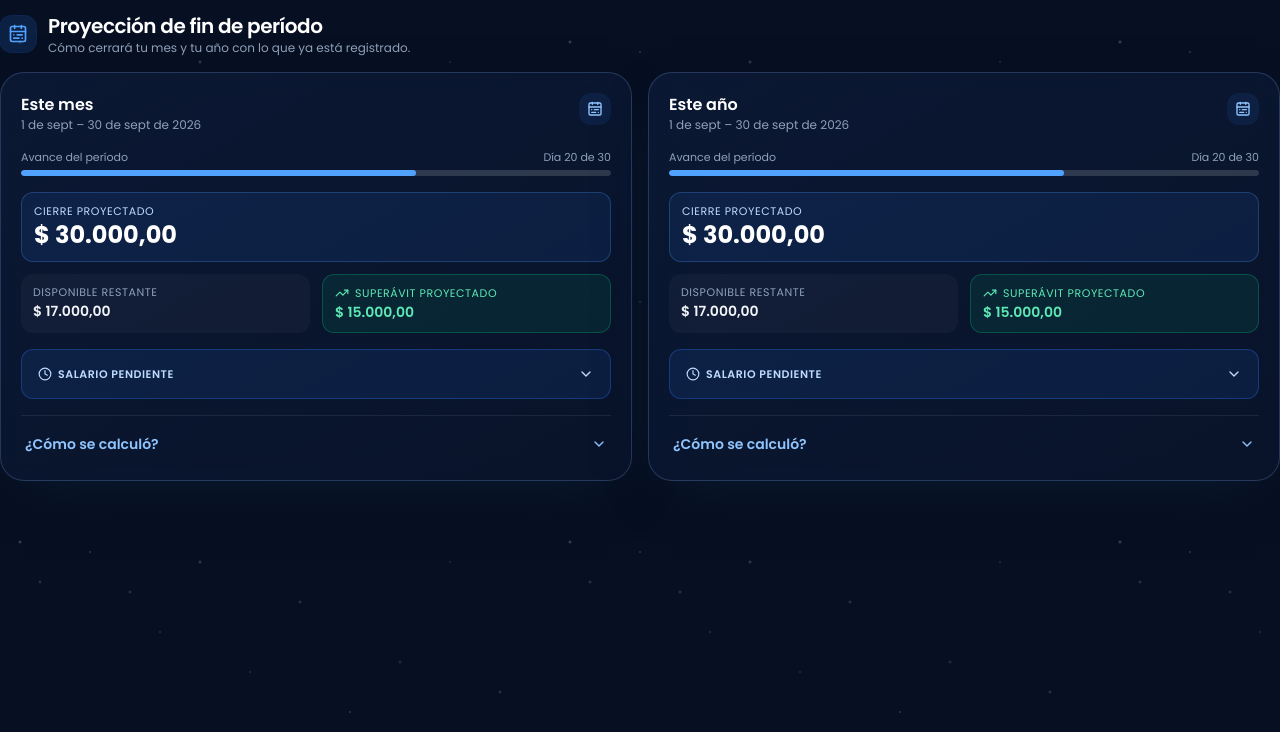
Scenario: ProjectionSection › renders an FX note for a converted foreign line
Click the button "¿Cómo se calculó?" below "Este mes" at (92, 444), box [21,428,611,460]
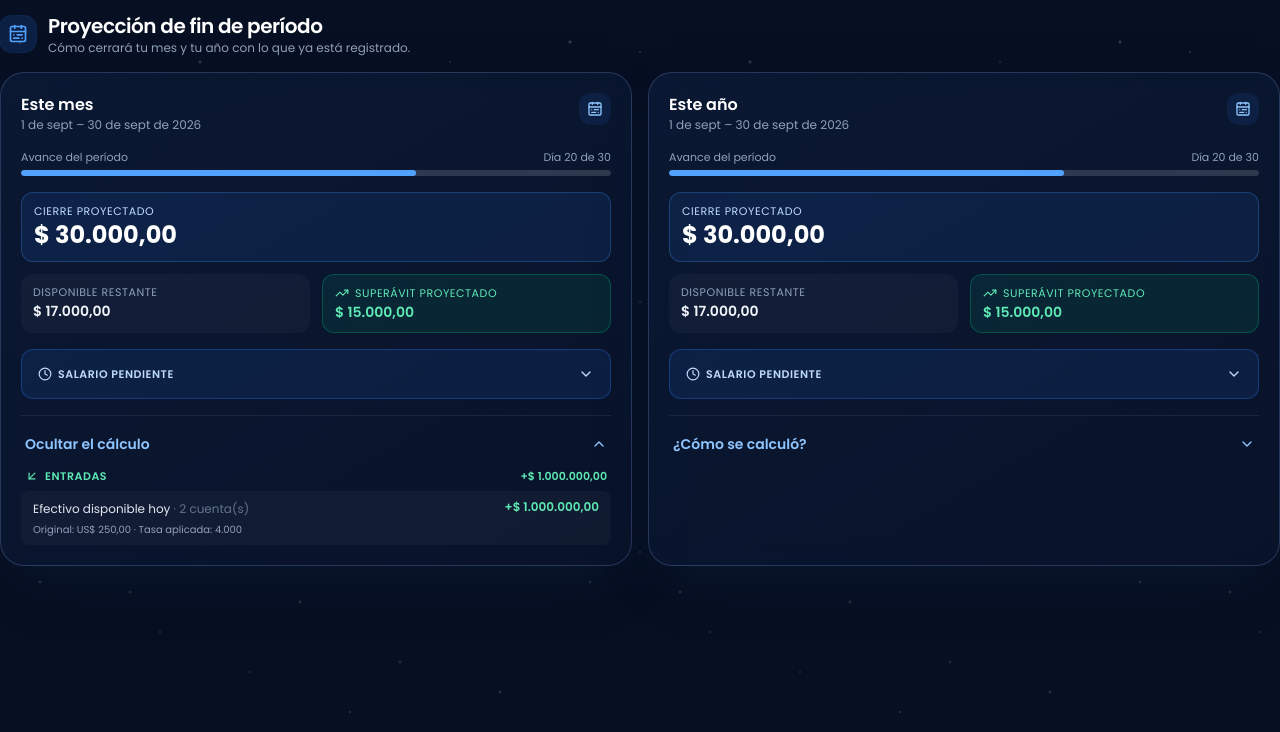
Now the text "Original: US$ 250,00 · Tasa aplicada: 4.000" is shown, box [33,522,242,537]
